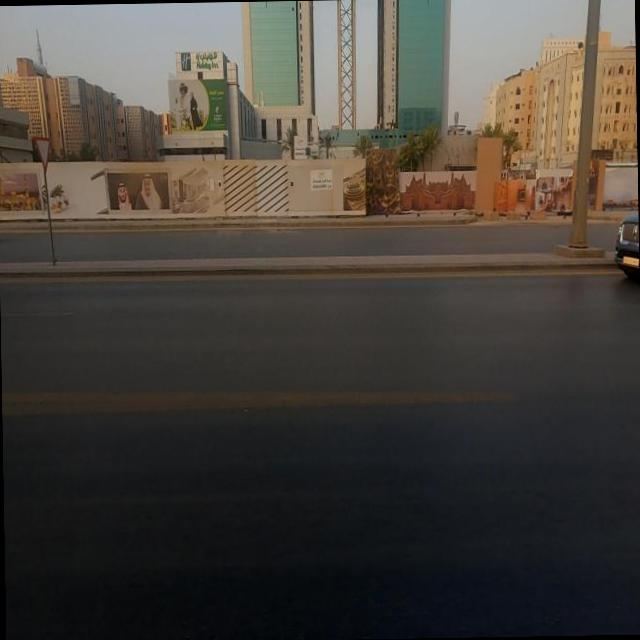debris: (322, 114, 460, 248), (74, 144, 192, 242)
